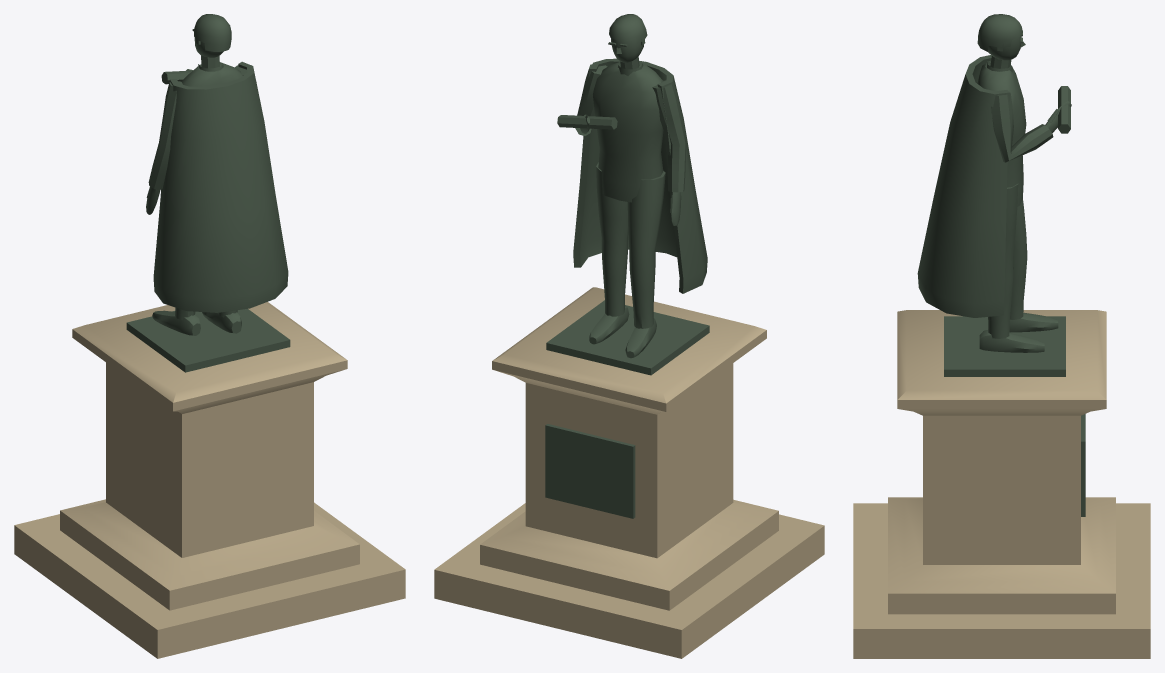
Rendered from mon_statue.glb.
The picture shows the model from 3 angles, left to right: view 1: azimuth 30°, elevation 25°; view 2: azimuth 150°, elevation 25°; view 3: azimuth 270°, elevation 25°; orthographic projection. The views are drawn at different scales.
Parts seen in each view (by area): view 1: mon_statue; view 2: mon_statue; view 3: mon_statue.
Part boxes in pixels (left/top/right/bottom): mon_statue: left=14, top=14, right=405, bottom=658; mon_statue: left=434, top=14, right=824, bottom=658; mon_statue: left=853, top=14, right=1150, bottom=658.
Size of the model in its own units: 1.97 by 4.26 by 1.97.
